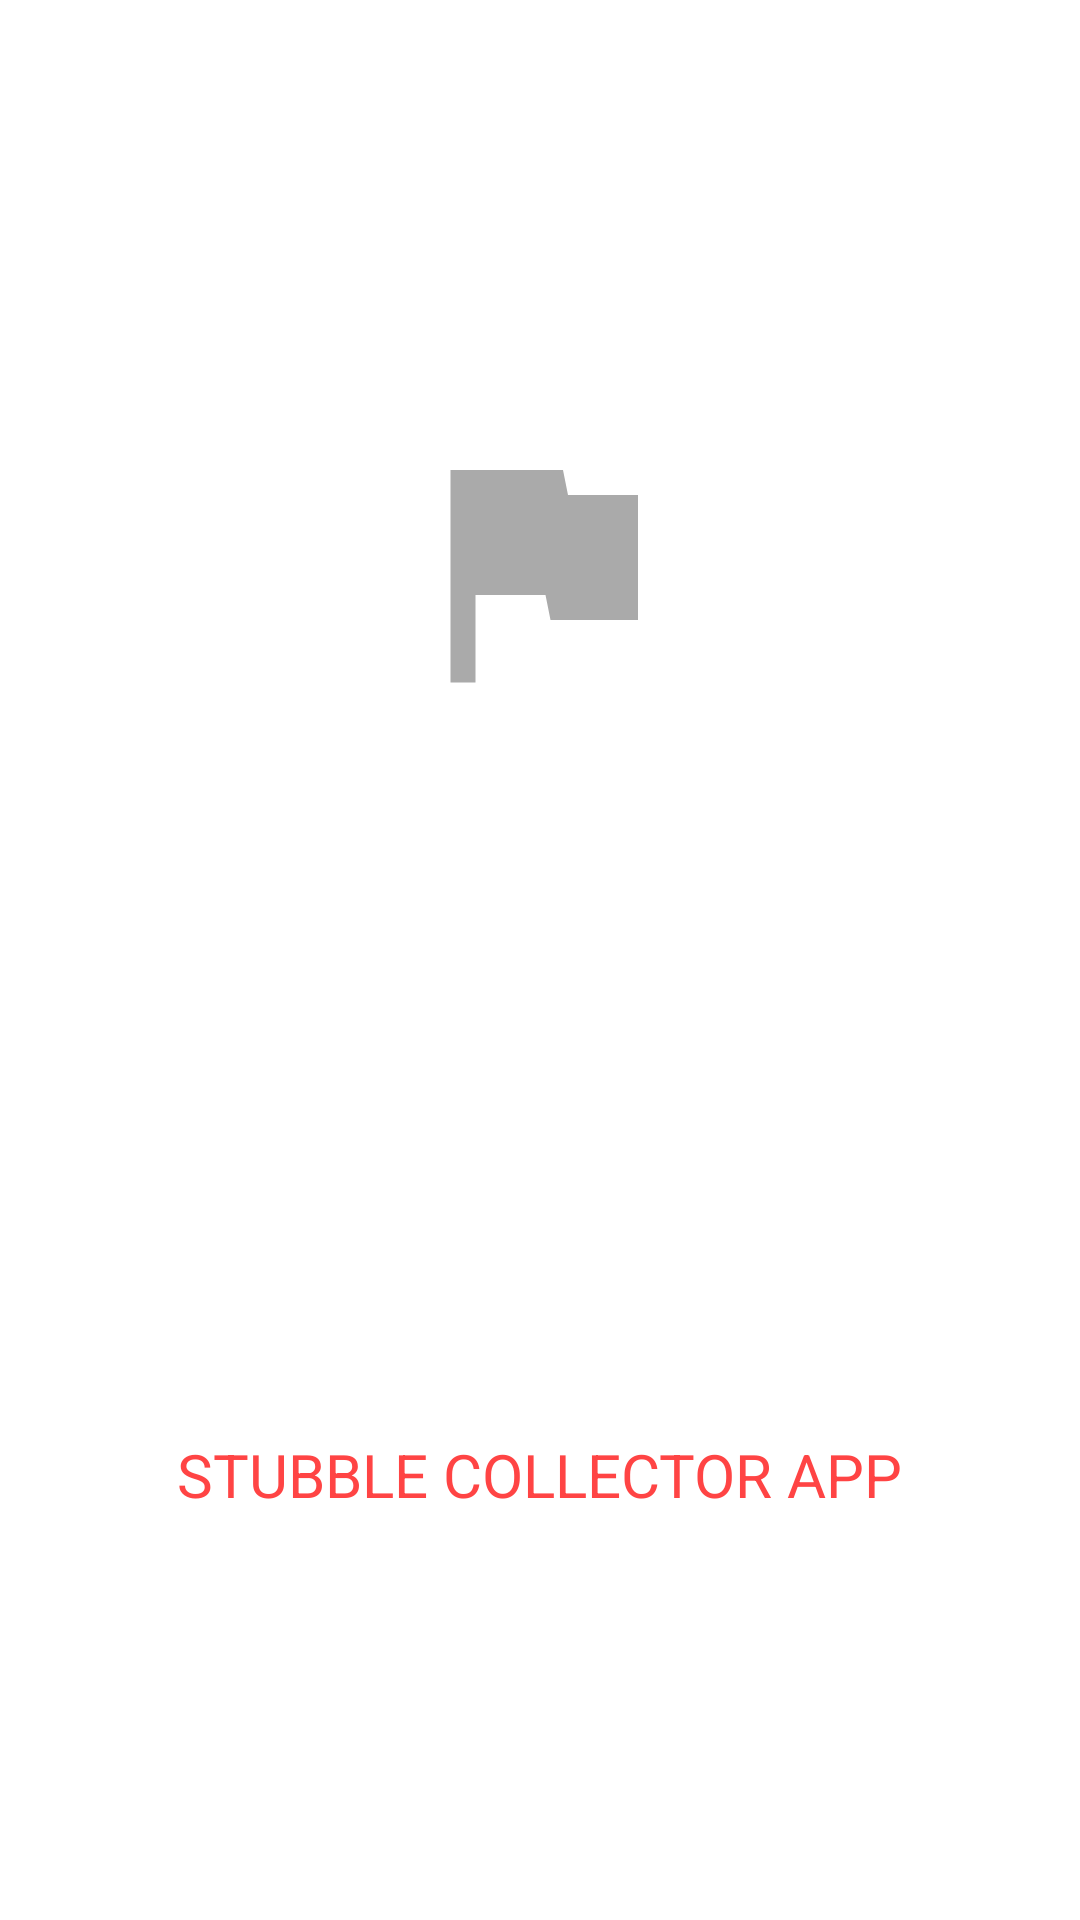

Screen size 1080×1920. Icon name, then its box in pixels as BBox(x1, y1, x2, y2):
assistant photo: BBox(450, 470, 638, 683)
